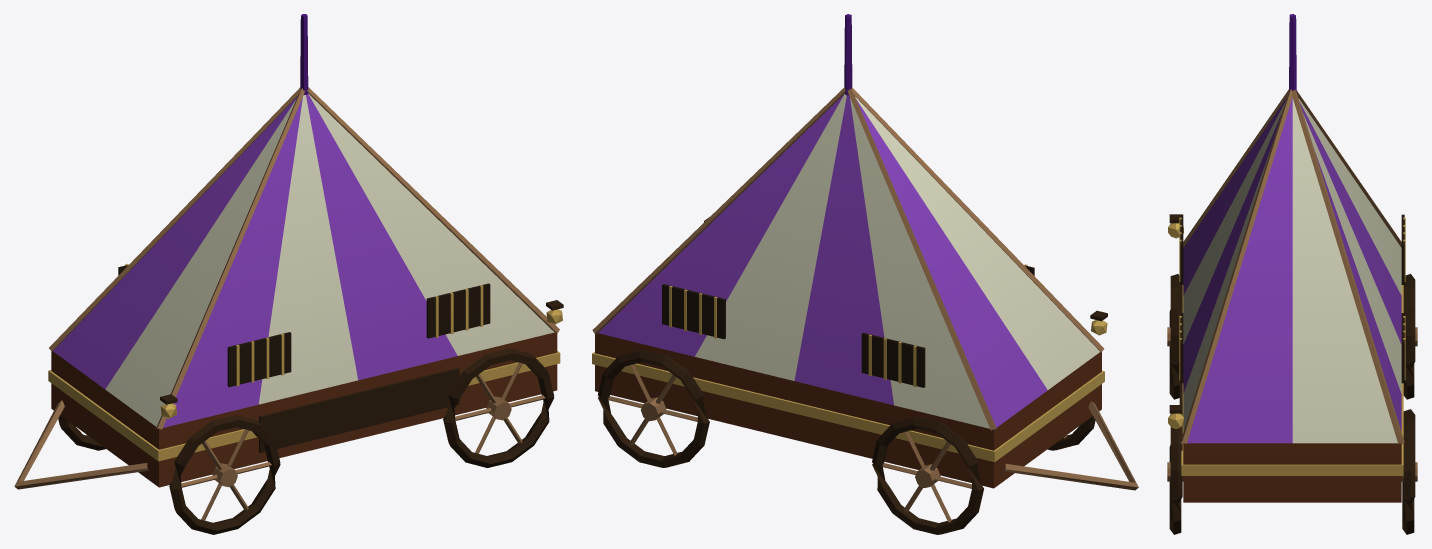
File: zoo.fbx
3 renders of one model, left to right at view 1: azimuth 30°, elevation 25°; view 2: azimuth 150°, elevation 25°; view 3: azimuth 270°, elevation 25°, orthographic.
Visible parts, largest first — view 1: zoo_0; view 2: zoo_0; view 3: zoo_0.
Part boxes in pixels (x1,y1,x2,y2): zoo_0: [14, 14, 563, 534]; zoo_0: [592, 14, 1138, 534]; zoo_0: [1167, 14, 1417, 534].
Size of the model in its own units: 7.89 by 6.76 by 3.44.
